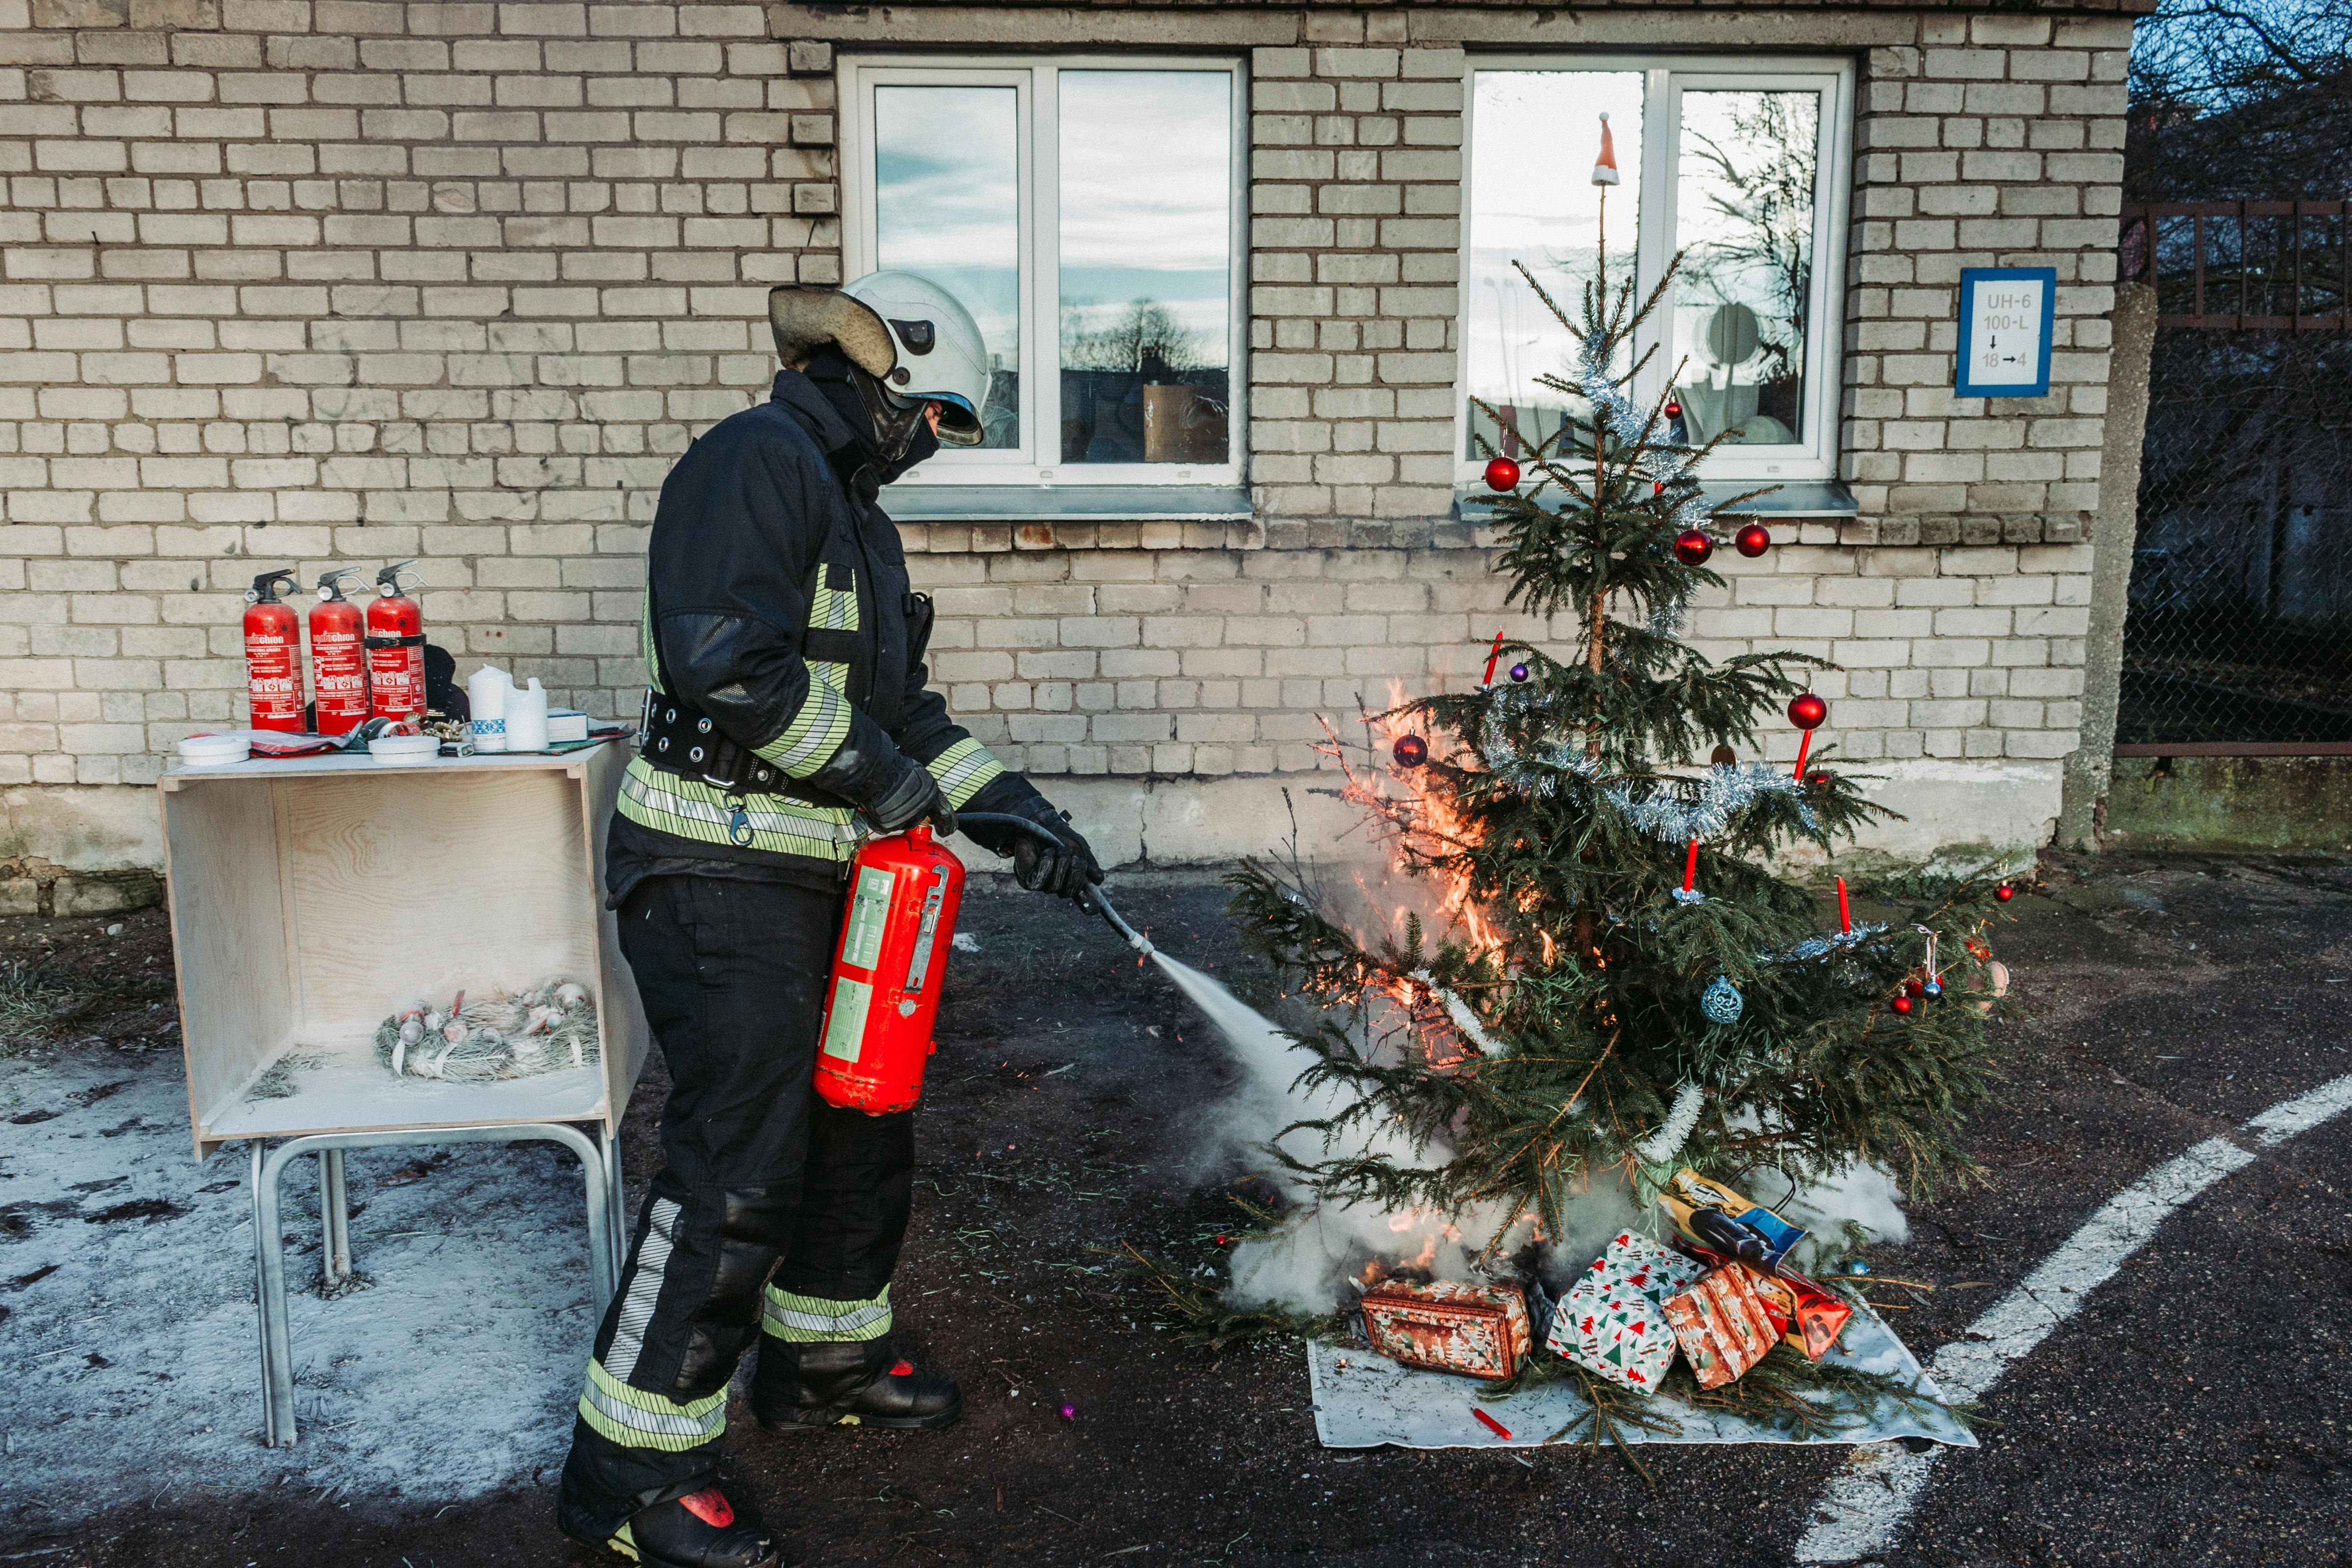extintor: (808, 803, 968, 1113), (233, 558, 310, 759), (296, 563, 374, 756), (362, 551, 432, 737)
